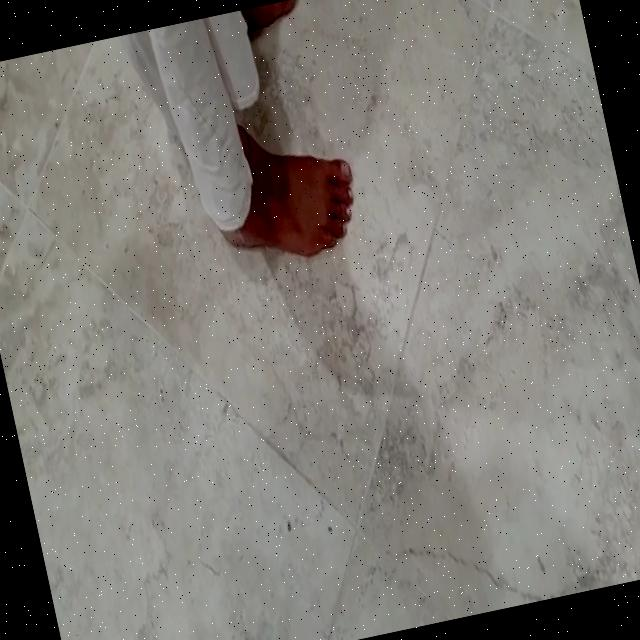no-boots: (192, 120, 382, 275)
